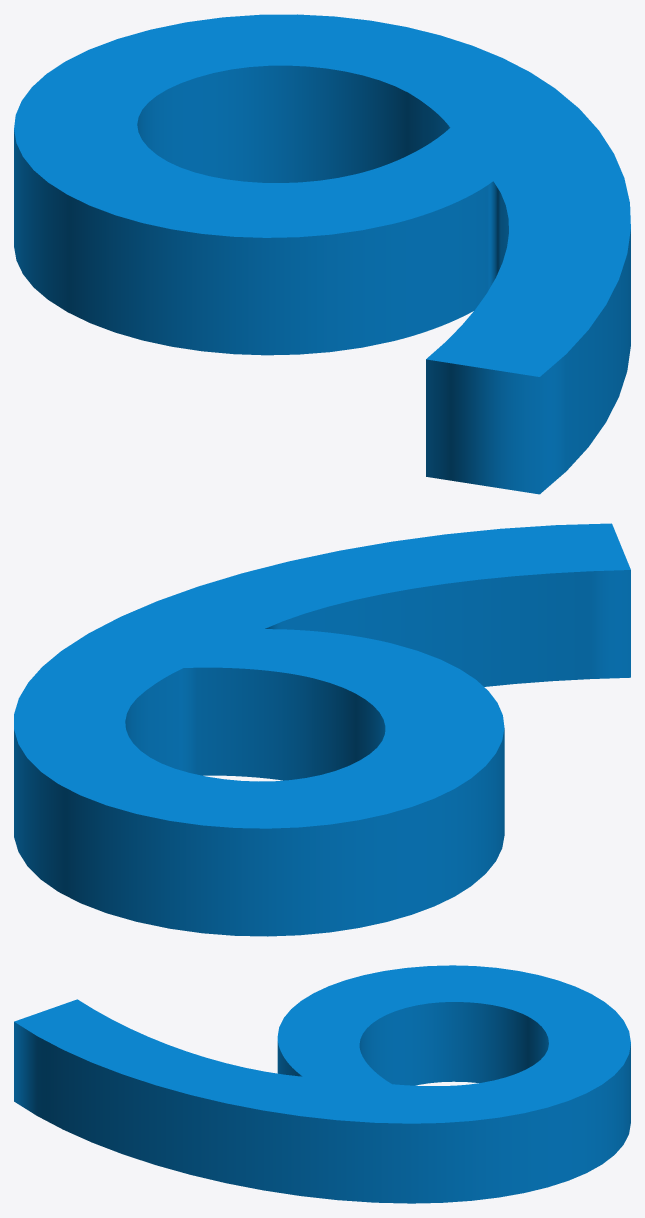
The model's file is Nine.fbx.
3 views of the same model, one above another, from view 1: azimuth 30°, elevation 25°; view 2: azimuth 150°, elevation 25°; view 3: azimuth 270°, elevation 25° (orthographic). The views are drawn at different scales.
Visible parts, largest first — view 1: Nine; view 2: Nine; view 3: Nine.
Boxes of the visible parts, x1,y1,x2,y2 form: Nine: [14, 14, 630, 494]; Nine: [14, 523, 630, 936]; Nine: [14, 965, 630, 1203].
Bounding box in the file's own units: 140 × 20 × 85.
